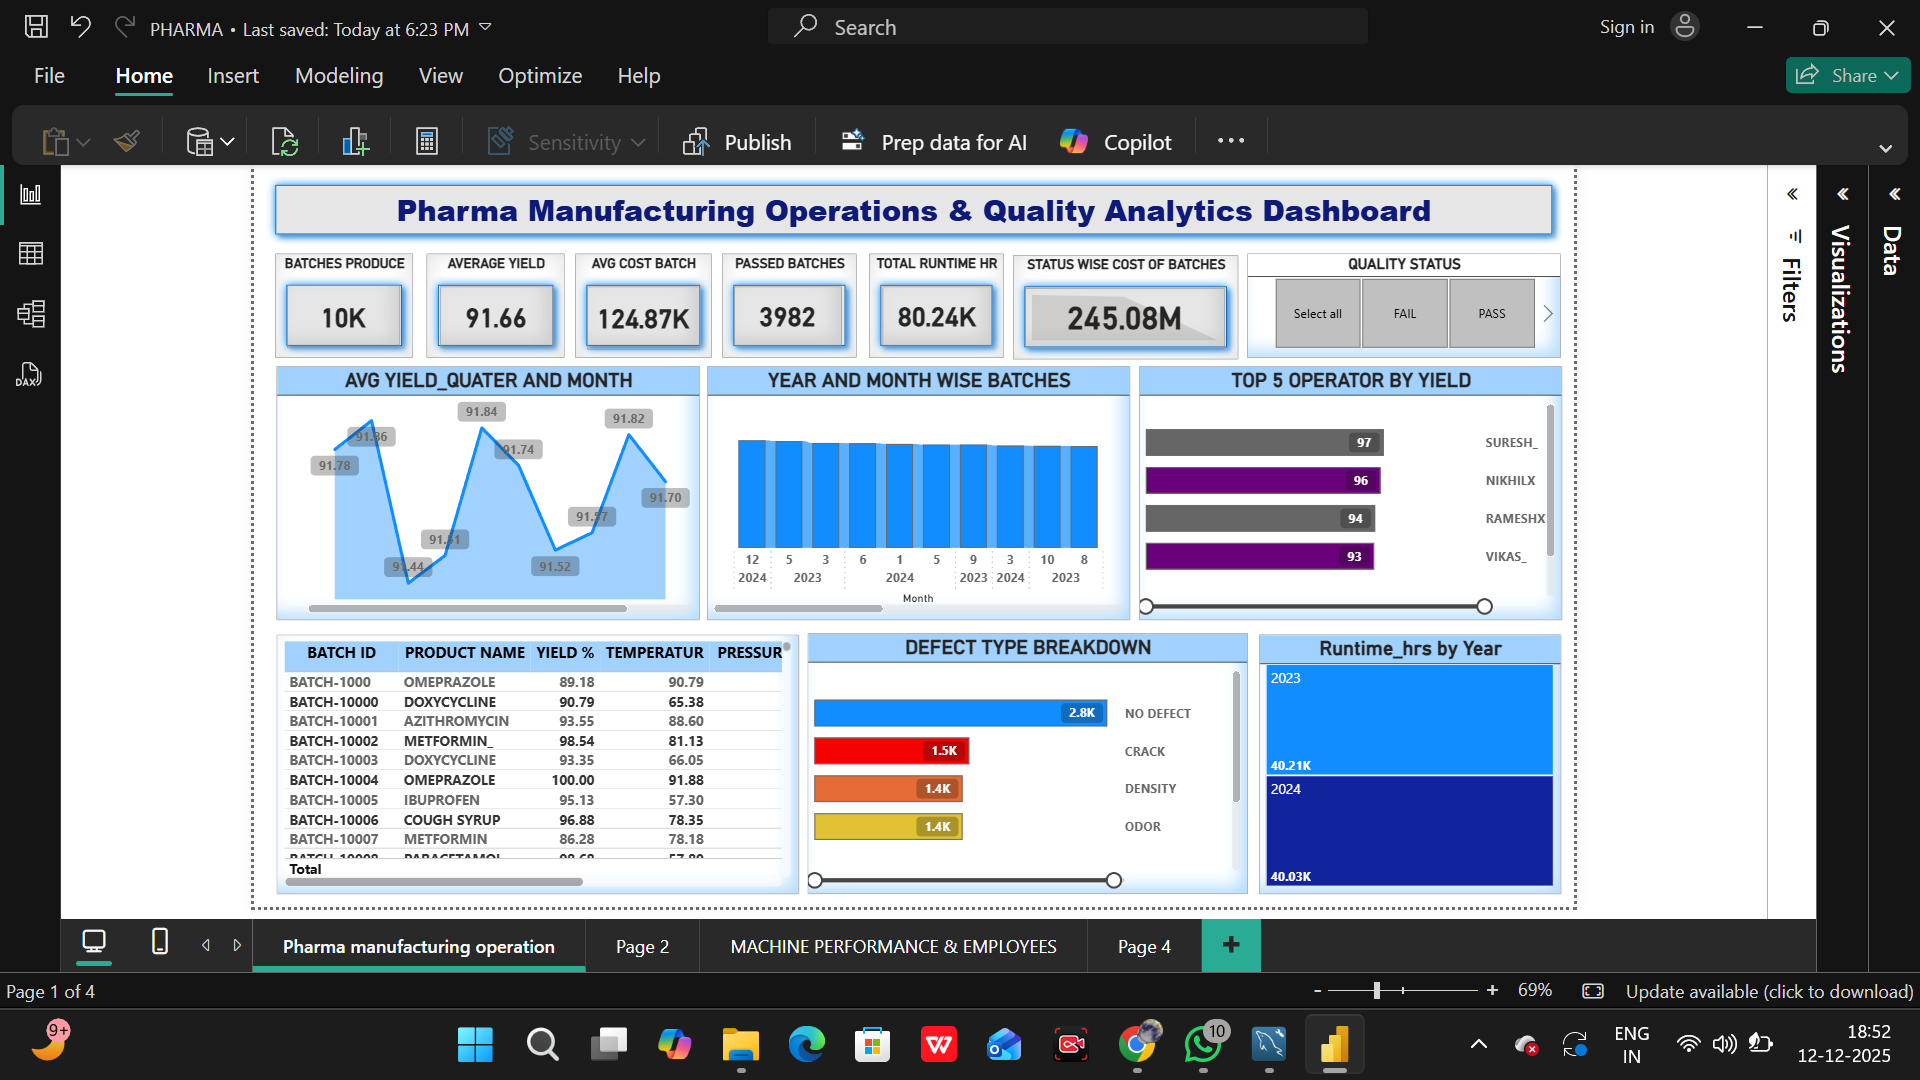

Layout of this report page (visuals, bound fields, positions):
{"tool":"powerbi","page":{"name":"Pharma manufacturing operation","canvas":[1280,720],"ordinal":0},"visuals":[{"type":"shape","title":"TOTAL RUNTIME HR","box":[596.3,86.1,130.9,101],"z":0},{"type":"shape","title":"PASSED BATCHES","box":[453.9,86.1,130.9,101],"z":1000},{"type":"shape","title":"AVG COST BATCH","box":[311.4,86.1,132.5,101],"z":2000},{"type":"shape","title":"AVERAGE YIELD","box":[167.3,86.1,134.2,101],"z":3000},{"type":"shape","title":"BATCHES PRODUCE","box":[20.3,86.1,134.2,101],"z":4000},{"type":"shape","box":[11.6,9.9,1257.3,66.3],"z":5000},{"type":"card","fields":{"Values":["pharma pharma_production_batches.TOTAL_BATCHES"]},"box":[31.9,116,109.3,61.3],"z":6000},{"type":"card","fields":{"Values":["pharma pharma_production_batches.AVG_YIELD_Measure"]},"box":[180.6,117.6,109.3,59.6],"z":7000},{"type":"card","fields":{"Values":["pharma pharma_production_batches.AVG_COST_PER_BATCH"]},"box":[323,117.6,109.3,61.3],"z":8000},{"type":"card","fields":{"Values":["pharma pharma_production_batches.Passed Batches"]},"box":[465.5,117.6,104.4,58],"z":9000},{"type":"card","fields":{"Values":["pharma pharma_machine_logs.TOTAL RUNTIME HR"]},"box":[609.6,117.6,106,58],"z":10000},{"type":"ribbonChart","title":"YEAR AND MONTH WISE BATCHES","fields":{"Category":["pharma pharma_production_batches.Year Hierarchy.Year","pharma pharma_production_batches.Year Hierarchy.Month"],"Y":["pharma pharma_production_batches.batch_id"]},"box":[439,195.5,410.8,246.8],"z":11000},{"type":"areaChart","title":"AVG YIELD_QUATER AND MONTH","fields":{"Category":["pharma pharma_production_batches.Year Hierarchy.Quater","pharma pharma_production_batches.Year Hierarchy.Month"],"Y":["pharma pharma_production_batches.AVG_YIELD_Measure"]},"box":[21.5,195.5,410.8,246.8],"z":12000},{"type":"clusteredBarChart","title":"DEFECT TYPE BREAKDOWN","fields":{"Category":["pharma pharma_quality_checks.Defect_Type"],"Y":["pharma pharma_quality_checks.batch_id"]},"box":[536.7,453.9,427.4,253.4],"z":13000},{"type":"tableEx","fields":{"Values":["pharma pharma_production_batches.batch_id","pharma pharma_production_batches.product_name","pharma pharma_production_batches.Yield_%","pharma pharma_production_batches.Temperature_C","pharma pharma_production_batches.Pressure_bar","pharma pharma_production_batches.quality_status","pharma pharma_quality_checks.Defect_Type"]},"box":[21.5,455.5,506.9,251.8],"z":14000},{"type":"shape","title":"STATUS WISE COST OF BATCHES ","box":[737.1,87.8,218.7,101],"z":15000},{"type":"kpi","fields":{"Indicator":["pharma pharma_production_batches.cost_per_batch by status"],"TrendLine":["pharma pharma_production_batches.quality_status"]},"box":[748.7,119.3,193.8,58],"z":16000},{"type":"treemap","title":"Runtime_hrs by Year","fields":{"Group":["pharma pharma_machine_logs.Log_Date.Variation.Date Hierarchy.Year","pharma pharma_machine_logs.Log_Date.Variation.Date Hierarchy.Quarter","pharma pharma_machine_logs.Log_Date.Variation.Date Hierarchy.Month","pharma pharma_machine_logs.Log_Date.Variation.Date Hierarchy.Day"],"Values":["pharma pharma_machine_logs.Runtime_hrs"]},"box":[975.7,455.5,293.2,251.8],"z":17000},{"type":"slicer","title":"QUALITY STATUS","fields":{"Values":["pharma pharma_production_batches.quality_status"]},"box":[964.1,86.1,304.8,101],"z":18000},{"type":"clusteredBarChart","title":"TOP 5 OPERATOR BY YIELD","fields":{"Category":["pharma pharma_production_batches.operator_name"],"Y":["pharma pharma_production_batches.AVG_YIELD_Measure"]},"box":[858.1,195.5,410.8,246.8],"z":19000}]}

Visuals, with their boxes on the page's 1280x720 design canvas (x1, y1, x2, y2). These are canvas units, not pixel positions in the 1920x1080 screenshot, which may show the page scaled, cropped or inside an application window:
"TOTAL RUNTIME HR" shape: x1=596, y1=86, x2=727, y2=187
"PASSED BATCHES" shape: x1=454, y1=86, x2=585, y2=187
"AVG COST BATCH" shape: x1=311, y1=86, x2=444, y2=187
"AVERAGE YIELD" shape: x1=167, y1=86, x2=302, y2=187
"BATCHES PRODUCE" shape: x1=20, y1=86, x2=154, y2=187
shape: x1=12, y1=10, x2=1269, y2=76
card - pharma pharma_production_batches.TOTAL_BATCHES: x1=32, y1=116, x2=141, y2=177
card - pharma pharma_production_batches.AVG_YIELD_Measure: x1=181, y1=118, x2=290, y2=177
card - pharma pharma_production_batches.AVG_COST_PER_BATCH: x1=323, y1=118, x2=432, y2=179
card - pharma pharma_production_batches.Passed Batches: x1=466, y1=118, x2=570, y2=176
card - pharma pharma_machine_logs.TOTAL RUNTIME HR: x1=610, y1=118, x2=716, y2=176
"YEAR AND MONTH WISE BATCHES" ribbonChart: x1=439, y1=196, x2=850, y2=442
"AVG YIELD_QUATER AND MONTH" areaChart: x1=22, y1=196, x2=432, y2=442
"DEFECT TYPE BREAKDOWN" clusteredBarChart: x1=537, y1=454, x2=964, y2=707
tableEx - pharma pharma_production_batches.batch_id x pharma pharma_production_batches.product_name: x1=22, y1=456, x2=528, y2=707
"STATUS WISE COST OF BATCHES " shape: x1=737, y1=88, x2=956, y2=189
kpi - pharma pharma_production_batches.cost_per_batch by status x pharma pharma_production_batches.quality_status: x1=749, y1=119, x2=942, y2=177
"Runtime_hrs by Year" treemap: x1=976, y1=456, x2=1269, y2=707
"QUALITY STATUS" slicer: x1=964, y1=86, x2=1269, y2=187
"TOP 5 OPERATOR BY YIELD" clusteredBarChart: x1=858, y1=196, x2=1269, y2=442
